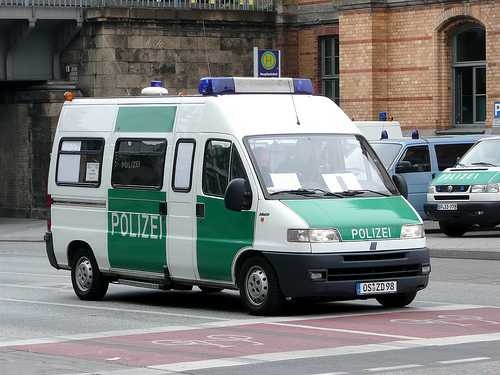Police Van: (42, 59, 439, 322)
